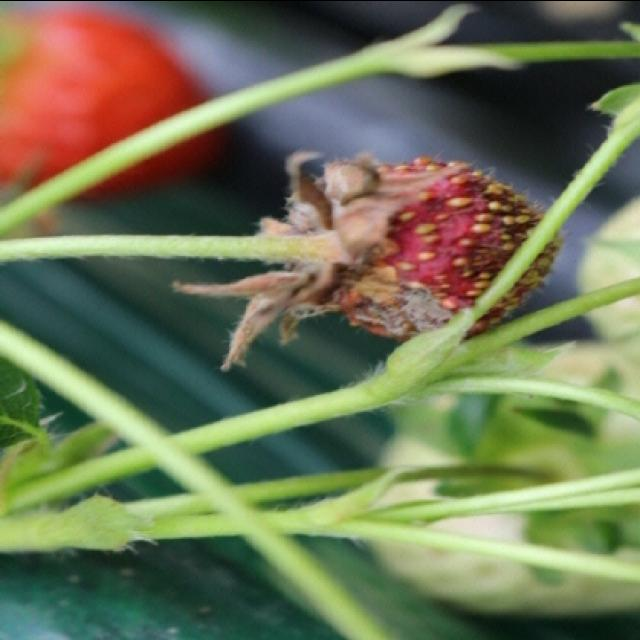Gray Mold: (170, 149, 566, 370)
